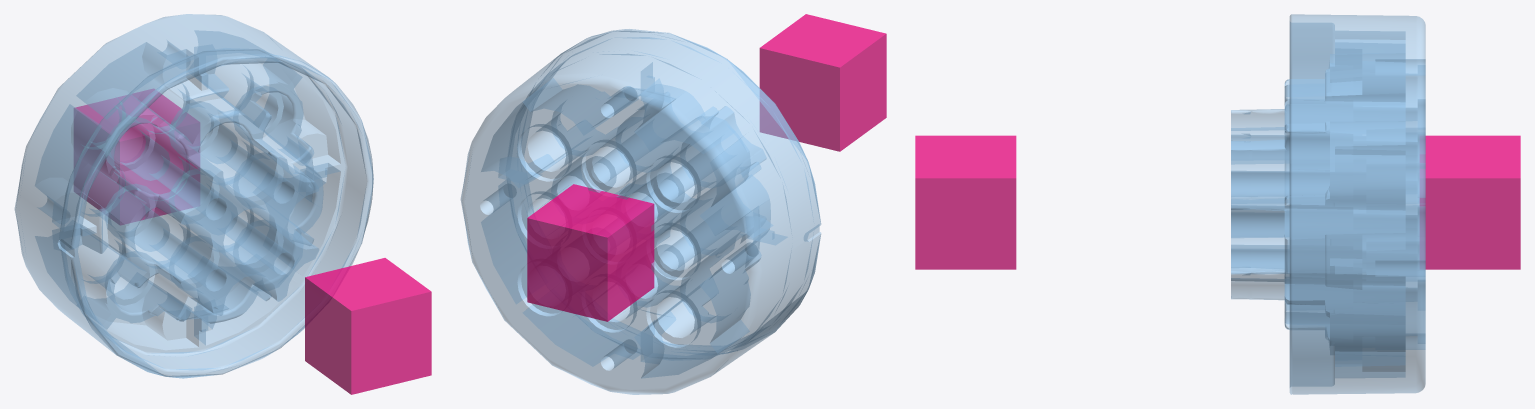
Rendered from MyCobotPi_J6.gltf.
3 renders of one model, left to right at view 1: azimuth 30°, elevation 25°; view 2: azimuth 150°, elevation 25°; view 3: azimuth 270°, elevation 25°, orthographic. The views are drawn at different scales.
Visible parts, largest first — view 1: polySurface157, J6_Cube, End_Cube; view 2: polySurface157, End_Cube, J6_Cube; view 3: polySurface157, J6_Cube, End_Cube.
Boxes of the visible parts, x1,y1,x2,y2 form: polySurface157: [14, 14, 373, 378]; J6_Cube: [305, 258, 431, 394]; End_Cube: [74, 89, 199, 224]; polySurface157: [460, 29, 821, 394]; End_Cube: [527, 184, 654, 321]; J6_Cube: [759, 14, 886, 151]; polySurface157: [1231, 14, 1425, 394]; J6_Cube: [915, 135, 1016, 269]; End_Cube: [1420, 135, 1520, 269].
Bounding box in the file's own units: 0.0378 × 0.0378 × 0.06.
